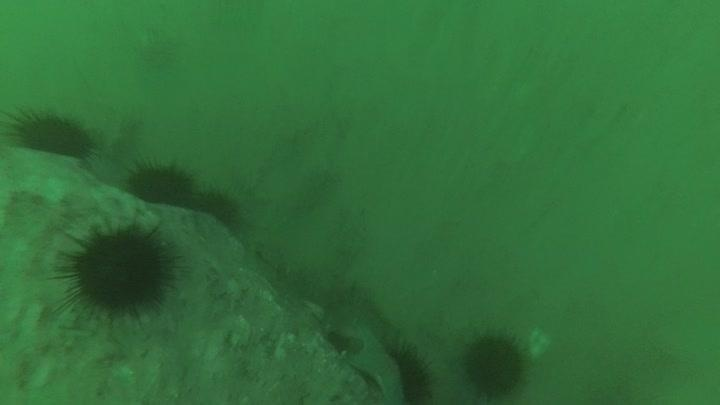echinus: (54, 217, 181, 323), (458, 327, 532, 401), (7, 104, 97, 162), (380, 335, 438, 405), (123, 156, 198, 210), (191, 184, 245, 232)
starfish: (344, 318, 406, 405)
